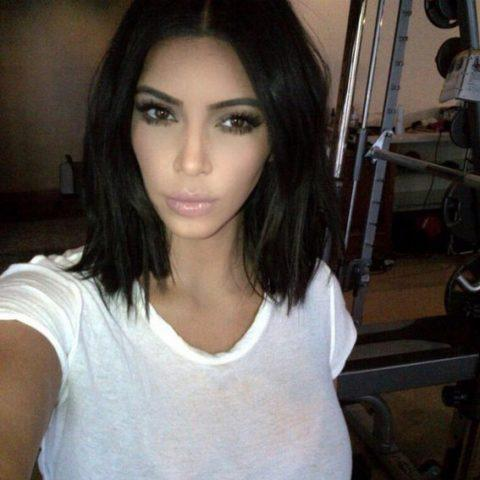face: (132, 36, 268, 241)
